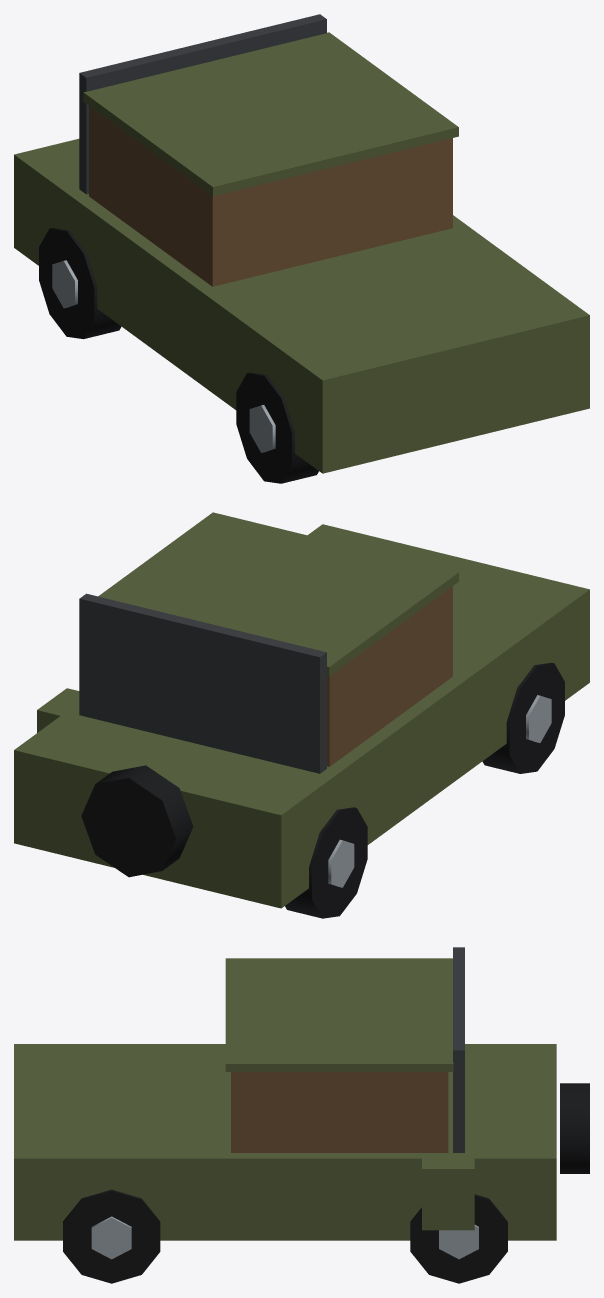
The model's file is veh_ground_jeep_a06.glb.
The picture shows the model from 3 angles, top to bottom: view 1: azimuth 30°, elevation 25°; view 2: azimuth 150°, elevation 25°; view 3: azimuth 270°, elevation 25°; orthographic projection. The views are drawn at different scales.
Visible parts, largest first — view 1: body, wheel_2, wheel_0; view 2: body, wheel_0, wheel_2; view 3: body, wheel_3, wheel_1.
Boxes of the visible parts, x1,y1,x2,y2 form: body: [14, 14, 589, 473]; wheel_2: [236, 372, 318, 483]; wheel_0: [39, 228, 121, 339]; body: [14, 512, 589, 908]; wheel_0: [285, 807, 367, 918]; wheel_2: [482, 662, 564, 773]; body: [14, 947, 589, 1240]; wheel_3: [63, 1189, 160, 1283]; wheel_1: [410, 1194, 507, 1283].
Size of what is drawn, in the model's own units: 2 by 1.66 by 3.82.
